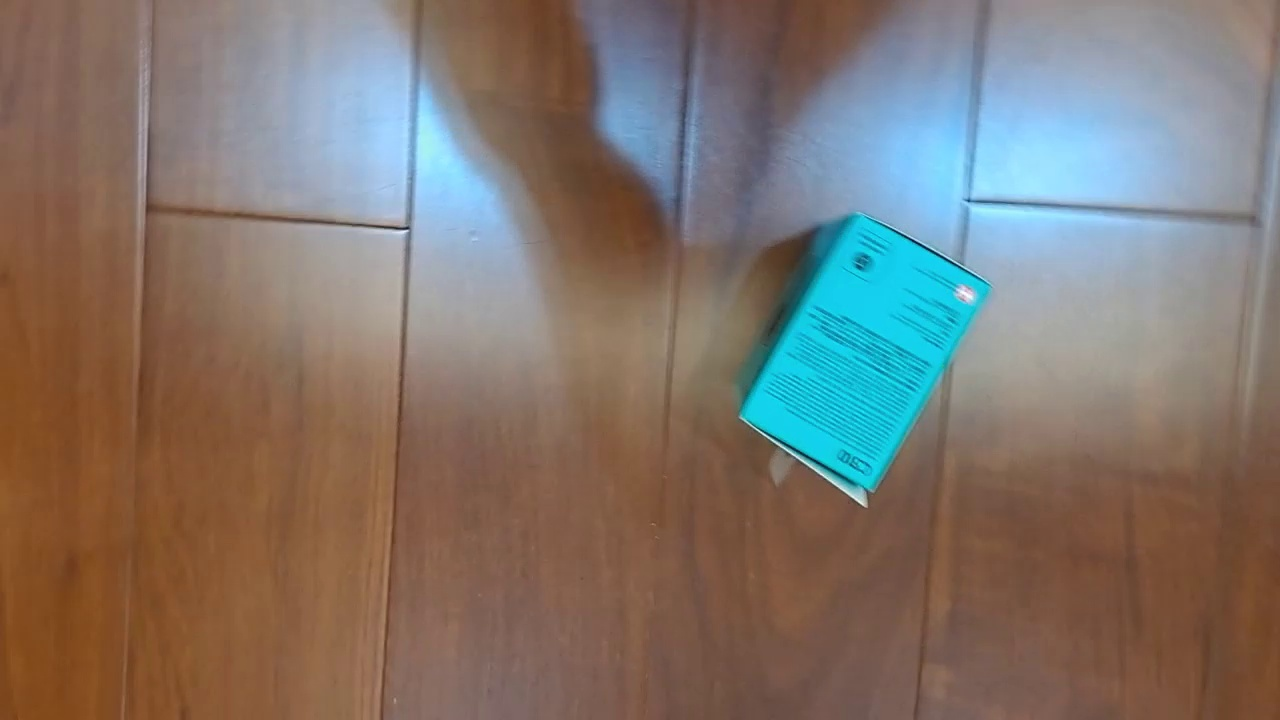webcam: (731, 210, 995, 509)
